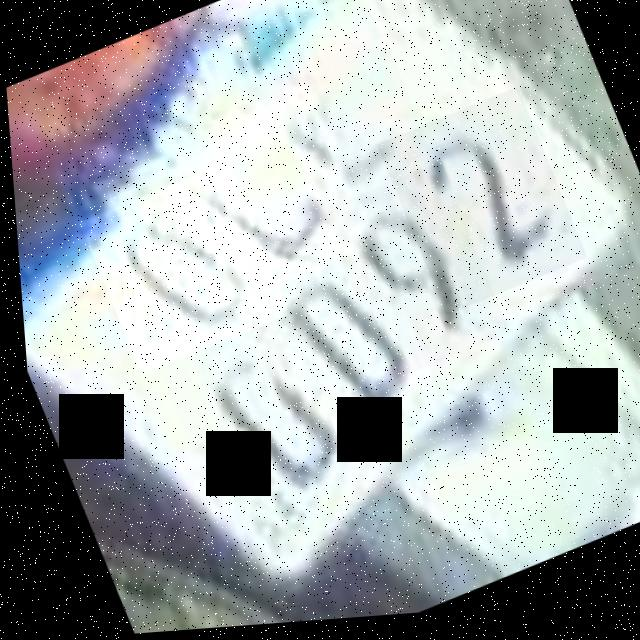2: (371, 91, 586, 325)
8: (315, 165, 507, 390)
D: (243, 224, 440, 463)
H: (243, 36, 442, 241)
L: (139, 81, 378, 317)
O: (73, 162, 288, 379)
